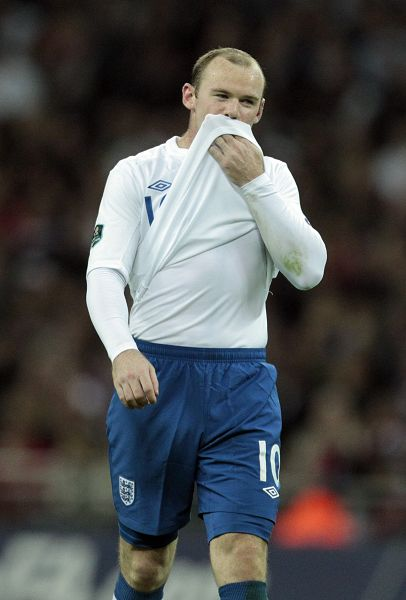face: (200, 65, 256, 152)
